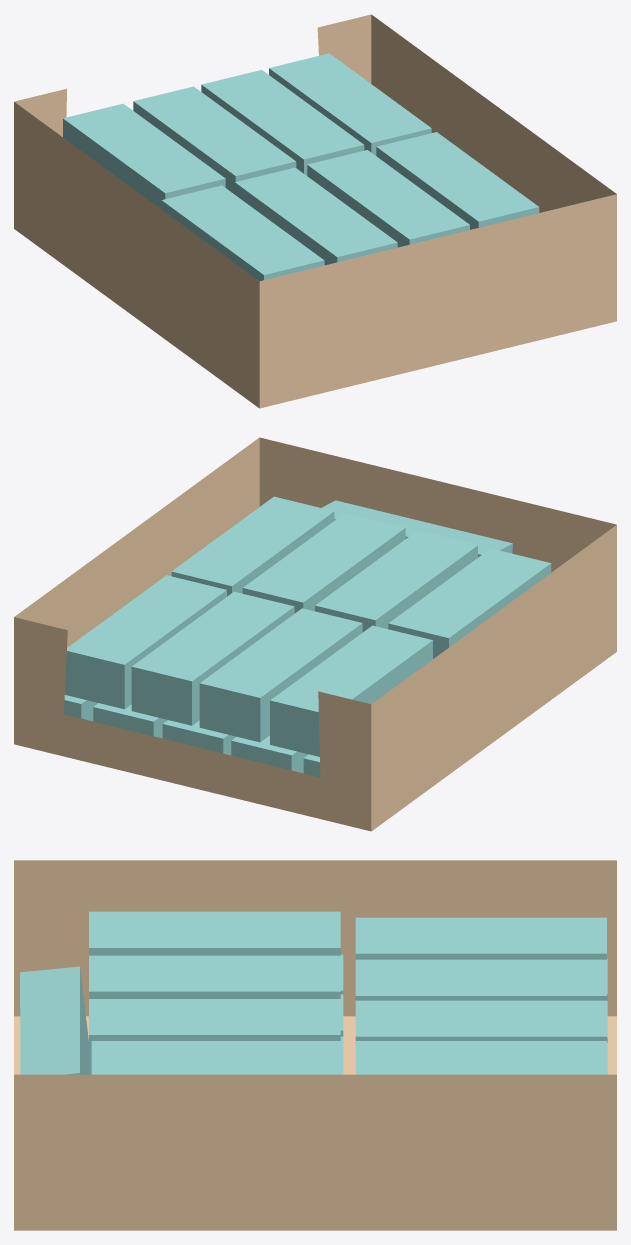
The model's file is Basket.fbx.
The picture shows the model from 3 angles, top to bottom: view 1: azimuth 30°, elevation 25°; view 2: azimuth 150°, elevation 25°; view 3: azimuth 270°, elevation 25°; orthographic projection. The views are drawn at different scales.
Visible parts, largest first — view 1: Candy; view 2: Candy; view 3: Candy.
Part boxes in pixels (bbox=[...]): Candy: bbox=[14, 14, 616, 408]; Candy: bbox=[14, 437, 616, 831]; Candy: bbox=[14, 860, 616, 1230].
Size of the model in its own units: 17.21 by 5.85 by 20.48.
